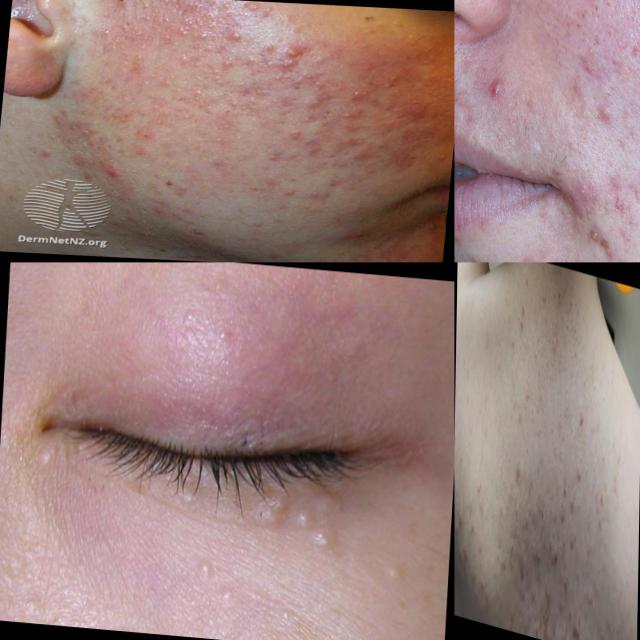acne_scars: (541, 594, 554, 640), (516, 560, 528, 590)
comedone: (202, 65, 233, 91), (216, 28, 253, 44), (264, 68, 292, 89), (95, 23, 122, 42), (173, 26, 203, 43), (342, 86, 367, 105), (522, 507, 530, 540), (536, 543, 544, 572), (520, 313, 526, 351), (141, 10, 155, 26), (562, 564, 568, 600), (90, 0, 120, 7), (513, 502, 520, 532), (579, 374, 588, 396), (457, 504, 462, 543), (544, 356, 551, 382), (534, 341, 540, 371), (573, 341, 579, 368)
milium: (177, 543, 265, 624), (281, 508, 354, 557), (15, 436, 73, 494), (370, 557, 426, 605)
papule: (479, 60, 523, 124), (95, 160, 121, 187), (550, 542, 559, 592), (576, 462, 583, 499), (558, 504, 566, 528)
pustule: (588, 98, 627, 136), (587, 219, 610, 259), (575, 172, 592, 210), (283, 43, 312, 59)
syringoma: (229, 490, 294, 538), (164, 478, 208, 522), (310, 474, 350, 520)
